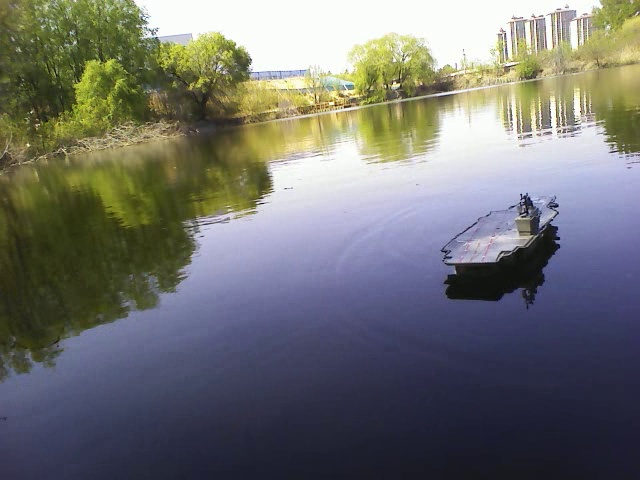aircraft_carrier: (441, 192, 559, 268)
